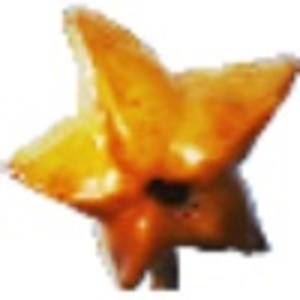carambola: (1, 5, 300, 294)
